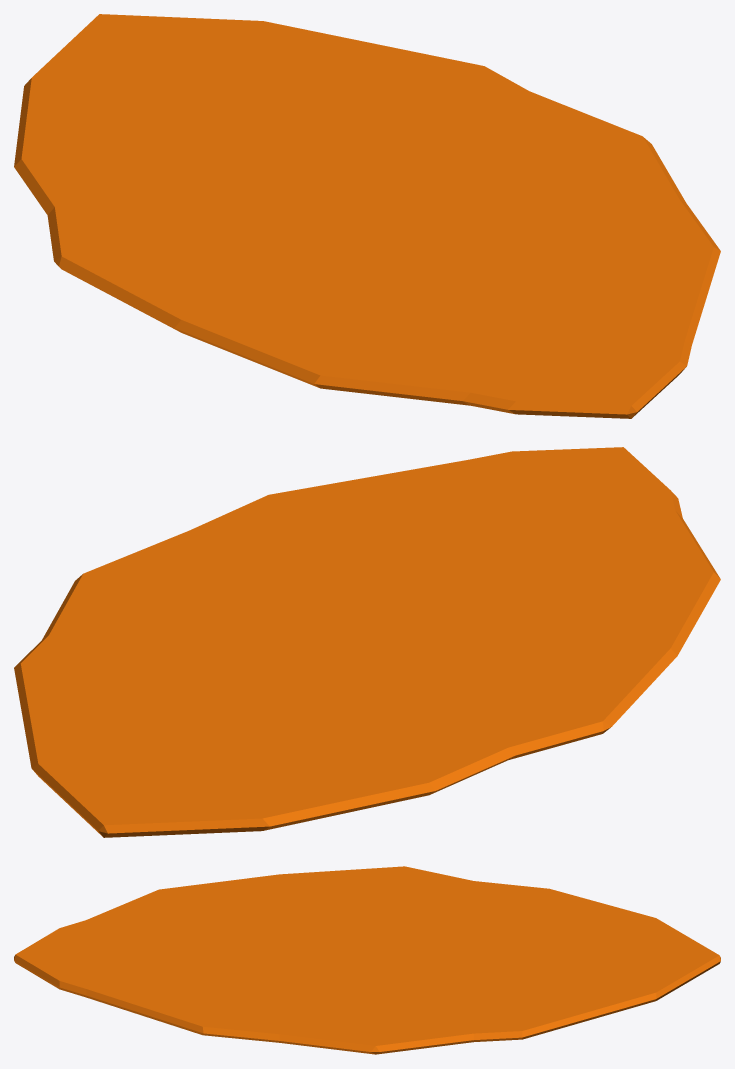
The model's file is leaf.glb.
3 renders of one model, top to bottom at view 1: azimuth 30°, elevation 25°; view 2: azimuth 150°, elevation 25°; view 3: azimuth 270°, elevation 25°, orthographic. The views are drawn at different scales.
Parts seen in each view (by area): view 1: Plane; view 2: Plane; view 3: Plane.
Part boxes in pixels (left/top/right/bottom): Plane: left=14, top=14, right=720, bottom=418; Plane: left=14, top=447, right=720, bottom=837; Plane: left=14, top=866, right=720, bottom=1054.
Bounding box in the file's own units: 0.906 × 0.0198 × 1.48.
